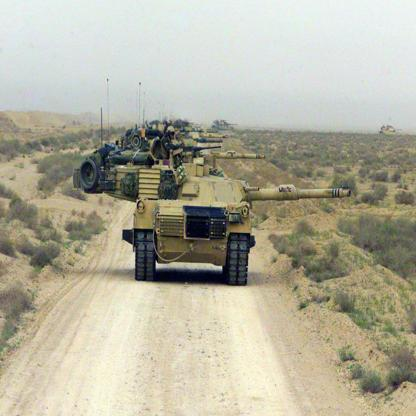Tank: (138, 160, 349, 299), (79, 138, 267, 195)
